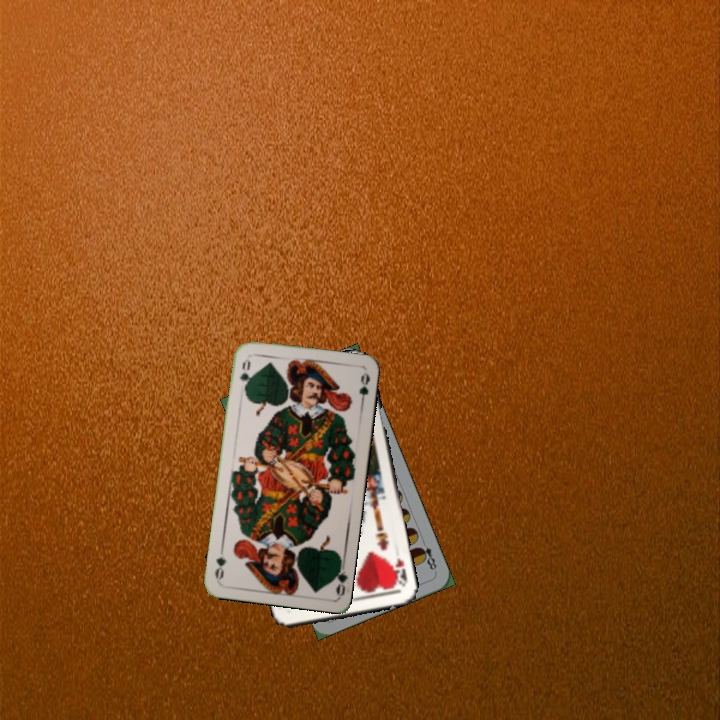E8: (414, 536, 439, 575)
GO: (329, 556, 349, 597), (235, 355, 253, 395)
HK: (389, 553, 410, 589)
